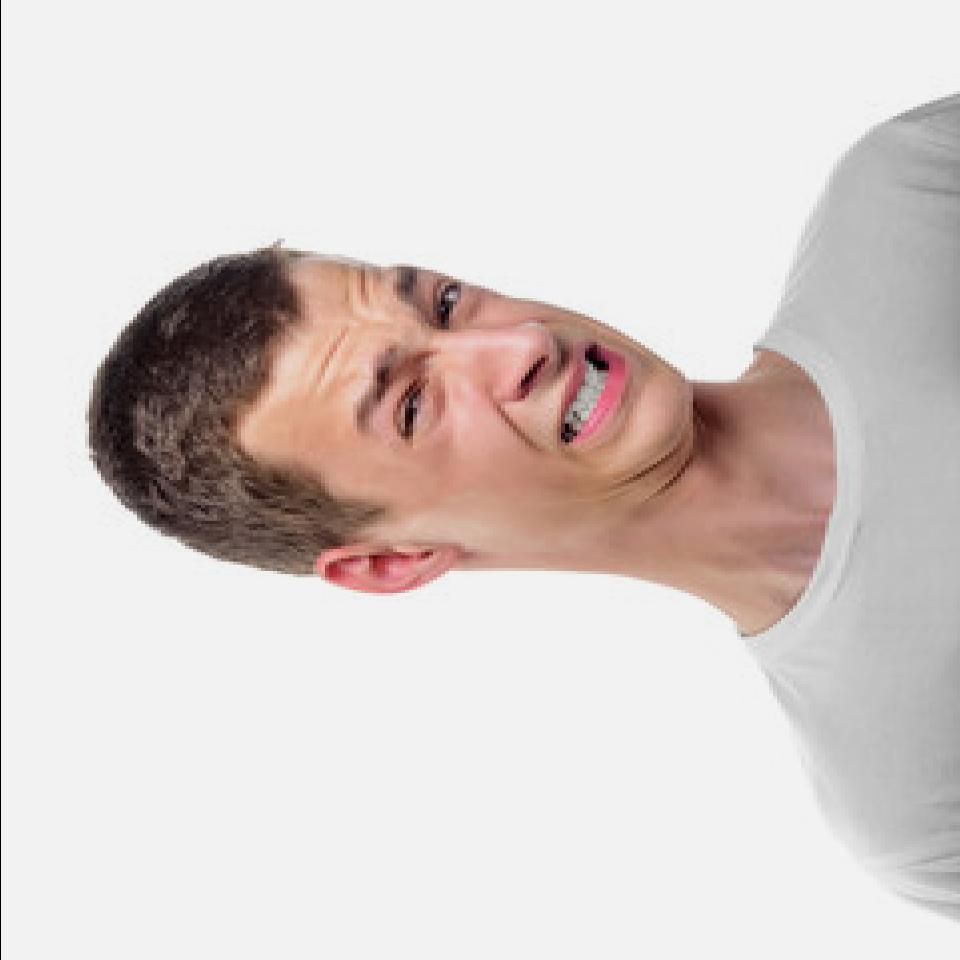Disgust: (239, 252, 707, 592)
